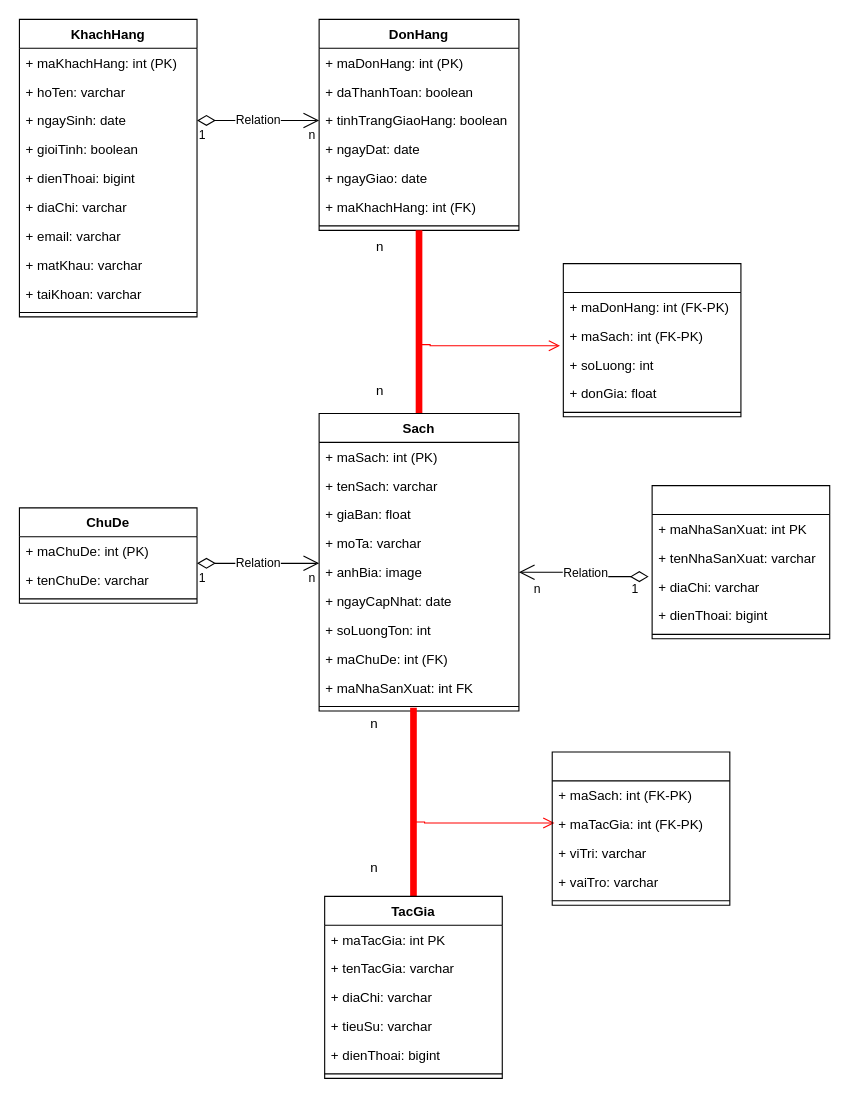
Some shapes in this 849 by 1098 pixel diagram are drawn without their labels. Here are the shapes that lost their labels. From the top down, the box of each, then its label:
(562, 263, 741, 417): DonHangSach
(651, 485, 830, 639): NhaXuatBan
(551, 751, 730, 905): ThucHien
